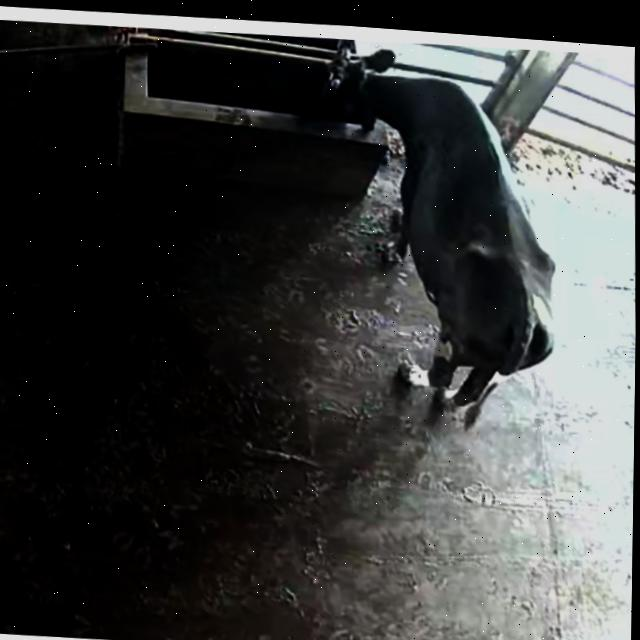drink: (298, 37, 492, 183)
